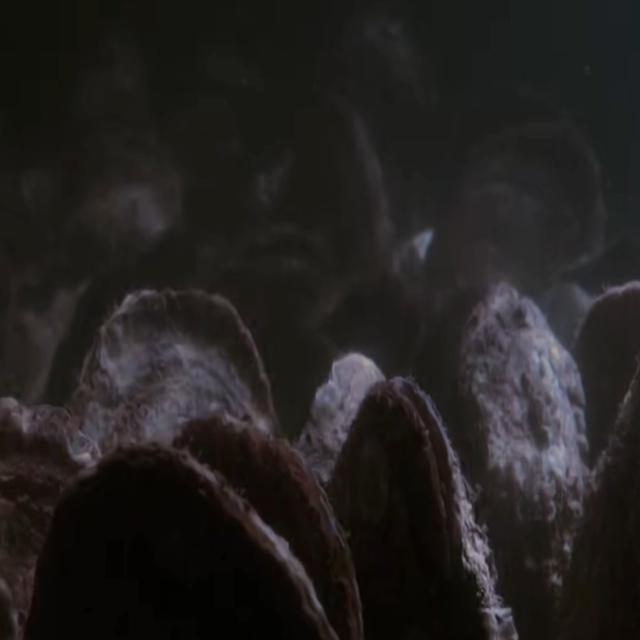Oyster-Closed: (30, 443, 339, 640), (172, 411, 364, 640), (0, 396, 102, 640)
Oyster-Indeterminate: (66, 287, 276, 640), (452, 281, 592, 640), (420, 116, 608, 335), (294, 354, 386, 640), (290, 80, 395, 292), (60, 136, 187, 277), (572, 281, 640, 510)
Oyster-Open: (327, 376, 514, 640), (215, 218, 338, 332)
